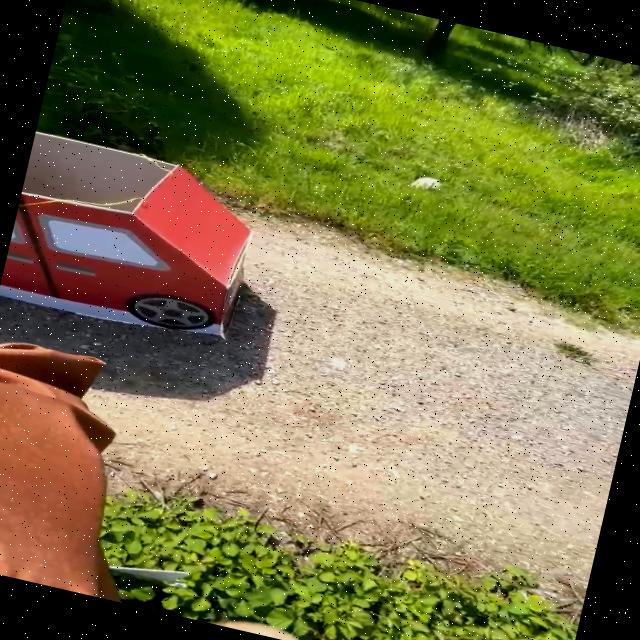red_car: (0, 120, 278, 353)
